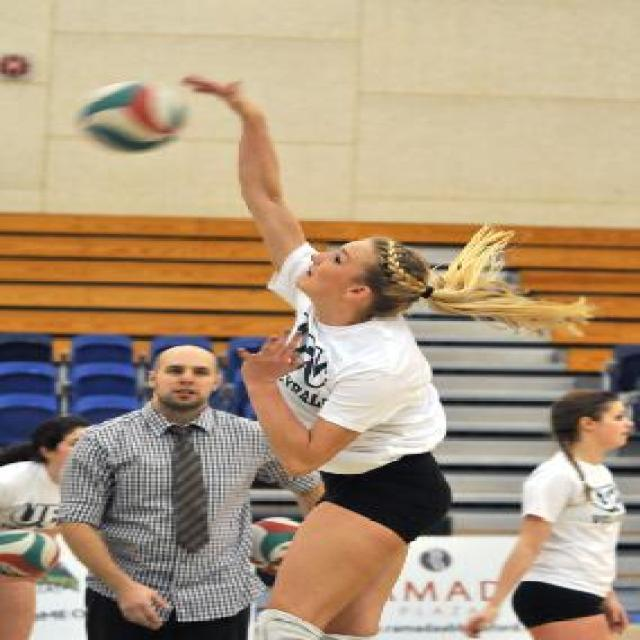volleyball: (72, 73, 185, 154), (248, 516, 304, 578), (0, 528, 60, 580)
